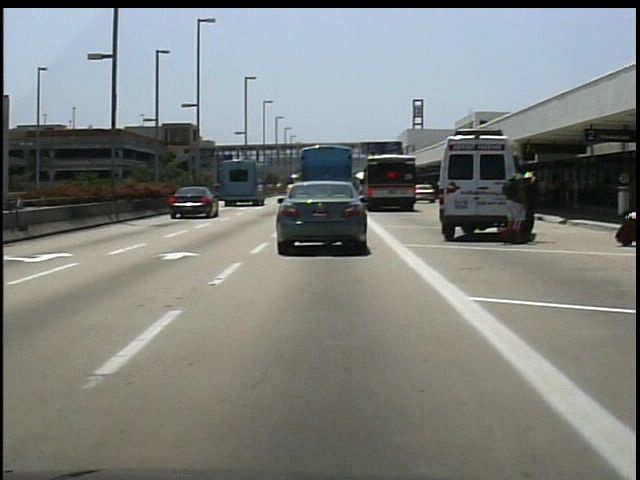person: (502, 162, 534, 244), (526, 171, 543, 244)
